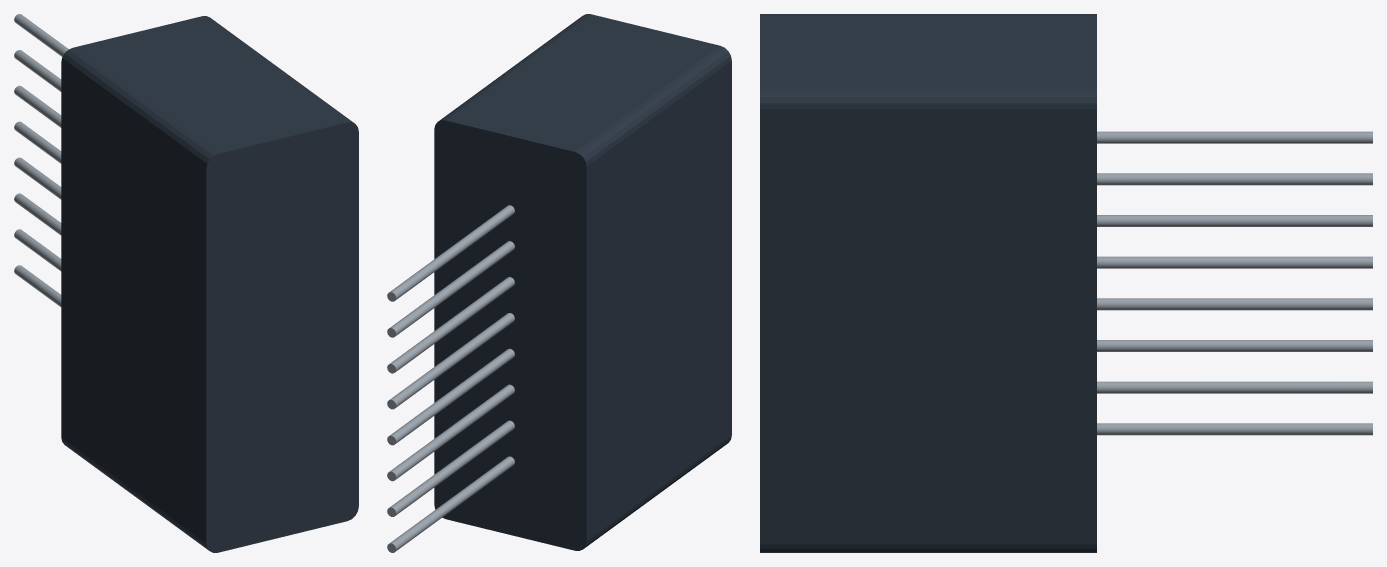
Rendered from beckman_coulter_biomek_i7_span8_block.glb.
The picture shows the model from 3 angles, left to right: view 1: azimuth 30°, elevation 25°; view 2: azimuth 150°, elevation 25°; view 3: azimuth 270°, elevation 25°; orthographic projection. The views are drawn at different scales.
Visible parts, largest first — view 1: beckman_coulter_biomek_i7_span8_block; view 2: beckman_coulter_biomek_i7_span8_block; view 3: beckman_coulter_biomek_i7_span8_block.
Part boxes in pixels (left/top/right/bottom): beckman_coulter_biomek_i7_span8_block: left=14, top=14, right=358, bottom=552; beckman_coulter_biomek_i7_span8_block: left=387, top=14, right=731, bottom=552; beckman_coulter_biomek_i7_span8_block: left=760, top=14, right=1372, bottom=552.
Bounding box in the file's own units: 0.04 × 0.1 × 0.12.
